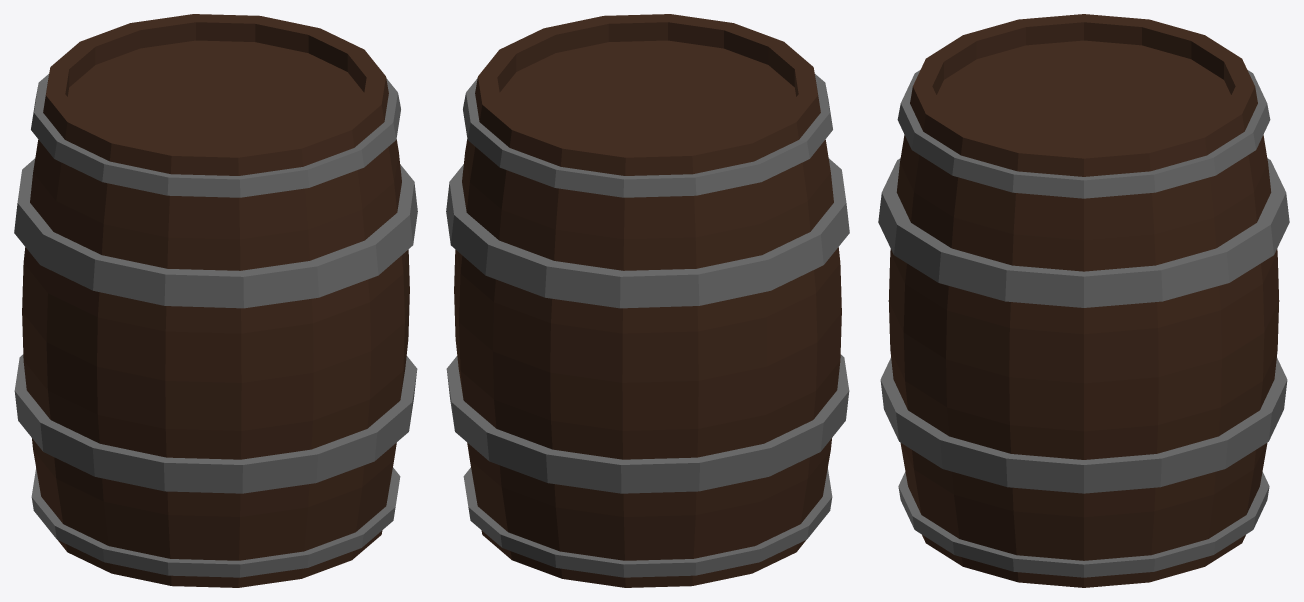
File: beczka lepsza 1.fbx
The picture shows the model from 3 angles, left to right: view 1: azimuth 30°, elevation 25°; view 2: azimuth 150°, elevation 25°; view 3: azimuth 270°, elevation 25°; orthographic projection.
Visible parts, largest first — view 1: beczka bez tekstur.001; view 2: beczka bez tekstur.001; view 3: beczka bez tekstur.001.
Part boxes in pixels (x1,y1,x2,y2): beczka bez tekstur.001: [14, 14, 417, 587]; beczka bez tekstur.001: [446, 14, 849, 587]; beczka bez tekstur.001: [878, 14, 1289, 587].
Size of the model in its own units: 2.15 by 2.52 by 2.18.
